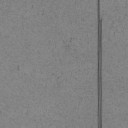surface scratch: (97, 0, 102, 128)
